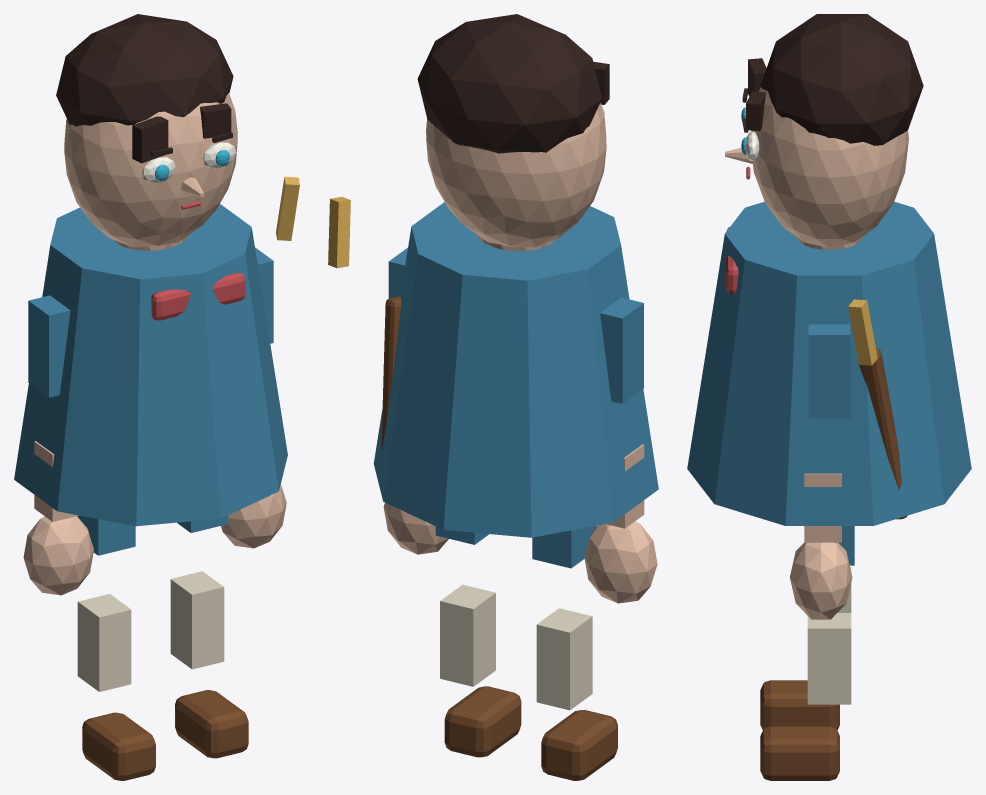
Rendered from wayfarer.glb.
3 renders of one model, left to right at view 1: azimuth 30°, elevation 25°; view 2: azimuth 150°, elevation 25°; view 3: azimuth 270°, elevation 25°, orthographic. The views are drawn at different scales.
Visible parts, largest first — view 1: Tunic, Head, HairCap, ShinR, ShinL, HandL, BootL, BootR, UpperArmL, HandR, ShoulderScarf, ThighL (+7 smaller); view 2: Tunic, HairCap, Head, ShinL, ShinR, HandL, BootR, BootL, UpperArmL, HandR, ThighL, Scabbard (+3 smaller); view 3: Tunic, HairCap, Head, BootR, UpperArmR, ShinR, HandR, BootL, Scabbard, SwordGrip, ForearmR, HairFringeR (+1 smaller).
Boxes of the visible parts, x1,y1,x2,y2 form: Tunic: [14, 204, 287, 526]; Head: [64, 93, 237, 247]; HairCap: [56, 14, 233, 126]; ShinR: [170, 571, 224, 669]; ShinL: [77, 594, 131, 691]; HandL: [23, 516, 93, 595]; BootL: [82, 712, 155, 780]; BootR: [175, 690, 248, 758]; UpperArmL: [28, 295, 70, 397]; HandR: [221, 484, 286, 548]; ShoulderScarf: [151, 273, 245, 320]; ThighL: [77, 515, 135, 555]; Tunic: [373, 202, 658, 537]; HairCap: [417, 14, 602, 153]; Head: [426, 102, 606, 247]; ShinL: [536, 608, 592, 710]; ShinR: [440, 584, 495, 686]; HandL: [584, 521, 657, 603]; BootR: [444, 686, 521, 757]; BootL: [541, 710, 617, 780]; UpperArmL: [600, 297, 643, 403]; HandR: [383, 502, 448, 554]; ThighL: [532, 525, 596, 568]; Scabbard: [381, 296, 401, 451]; Tunic: [687, 201, 971, 525]; HairCap: [760, 14, 923, 145]; Head: [751, 87, 908, 247]; BootR: [760, 726, 839, 780]; UpperArmR: [808, 324, 850, 418]; ShinR: [807, 613, 851, 704]; HandR: [789, 542, 852, 619]; BootL: [760, 680, 839, 730]; Scabbard: [859, 348, 907, 519]; SwordGrip: [848, 299, 877, 365]; ForearmR: [804, 473, 841, 542]; HairFringeR: [746, 91, 765, 131].
Size of the model in its own units: 0.8135 by 1.93 by 0.68.
